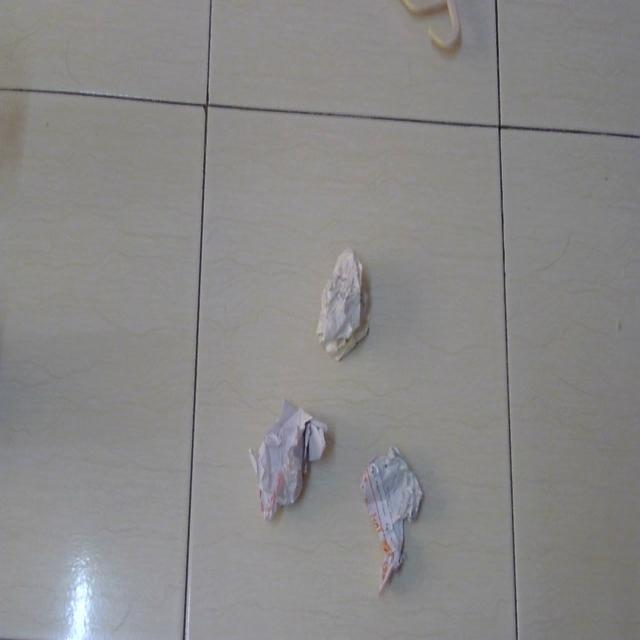paperrotation: (348, 432, 426, 600), (247, 392, 331, 520), (314, 238, 372, 366)
